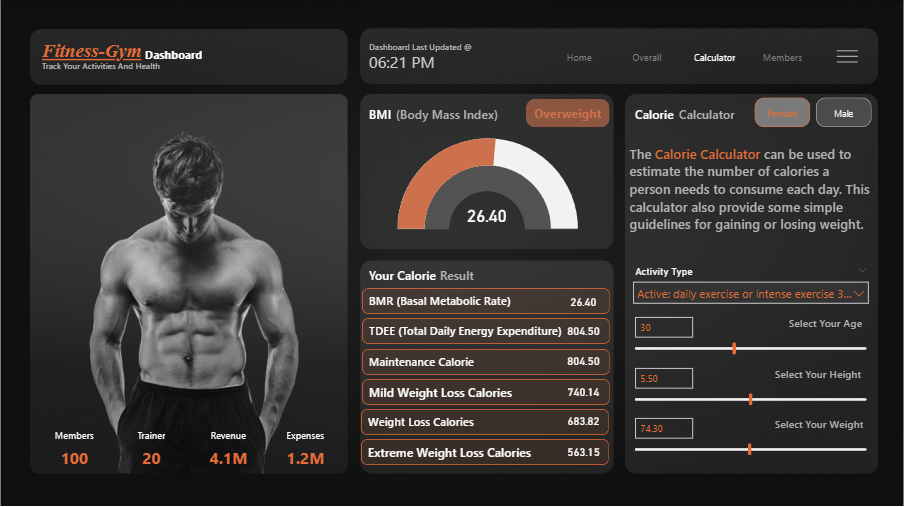

The page's visual inventory and layout, read from the dashboard file:
{"tool":"powerbi","page":{"name":"Calculator","canvas":[1280,720],"ordinal":2},"visuals":[{"type":"shape","box":[513.1,408.2,351.5,36.9],"z":0},{"type":"shape","box":[512.4,450.7,351.5,36.9],"z":1000},{"type":"shape","box":[513.7,494.8,351.5,36.9],"z":2000},{"type":"shape","box":[513,537.3,351.5,36.9],"z":3000},{"type":"shape","box":[512.3,579.9,351.5,36.9],"z":4000},{"type":"shape","box":[511.7,622.4,351.5,36.9],"z":5000},{"type":"slicer","fields":{"Values":["Parameter.Parameter"]},"box":[887.1,440,354.3,71.4],"z":6000},{"type":"slicer","fields":{"Values":["Height_Slider.Height_Slider"]},"box":[887.1,511.4,354.3,71.4],"z":7000},{"type":"slicer","fields":{"Values":["Weight_Slider.Weight_Slider"]},"box":[887.1,582.9,354.3,71.4],"z":8000},{"type":"slicer","fields":{"Values":["Slider_Activity.Category"]},"box":[887.1,371.4,354.3,68.6],"z":9000},{"type":"advancedSlicerVisual","fields":{"Values":["Slider_Gender.category"]},"box":[1064.3,132.9,177.1,52.9],"z":10000},{"type":"shape","box":[897.1,141.4,62.9,40],"z":11000},{"type":"shape","box":[960,141.4,91.4,40],"z":12000},{"type":"textbox","box":[887.1,200,354.3,160],"z":13000},{"type":"gauge","fields":{"Y":["_Measures.BMI"]},"box":[558.6,172.9,265.7,174.3],"z":14000},{"type":"shape","box":[1115.7,440,115.7,35.7],"z":15000},{"type":"shape","box":[1095.7,511.4,135.7,35.7],"z":16000},{"type":"shape","box":[1095.7,582.9,135.7,35.7],"z":17000},{"type":"card","fields":{"Values":["_Measures.BMI"]},"box":[632.9,265.7,112.9,80],"z":18000},{"type":"shape","box":[520,141.4,38.6,40],"z":19000},{"type":"shape","box":[558.6,141.4,154.3,40],"z":20000},{"type":"shape","box":[745.7,140,118.6,40],"z":21000},{"type":"shape","box":[520.2,406.8,226.8,39.7],"z":22000},{"type":"card","fields":{"Values":["_Measures.BMI"]},"box":[789.4,409.6,75.1,39.7],"z":23000},{"type":"shape","box":[520.2,369.9,116.2,39.7],"z":24000},{"type":"shape","box":[620.8,369.9,90.7,39.7],"z":25000},{"type":"shape","box":[520.2,449.3,303.3,39.7],"z":26000},{"type":"card","fields":{"Values":["_Measures.TDEE"]},"box":[789.4,450.7,75.1,39.7],"z":27000},{"type":"shape","box":[520.2,493.2,168.7,39.7],"z":28000},{"type":"card","fields":{"Values":["_Measures.Maintain Calories"]},"box":[789.4,493.2,75.1,39.7],"z":29000},{"type":"shape","box":[520.2,535.7,209.8,39.7],"z":30000},{"type":"card","fields":{"Values":["_Measures.Mild Weight Loss Calories"]},"box":[789.4,537.2,75.1,39.7],"z":31000},{"type":"shape","box":[518.7,578.3,211.2,39.7],"z":32000},{"type":"card","fields":{"Values":["_Measures.Weight Loss Calories"]},"box":[789.4,578.3,75.1,39.7],"z":33000},{"type":"shape","box":[518.7,620.8,246.6,39.7],"z":34000},{"type":"card","fields":{"Values":["_Measures.Extreme Weight Loss Calories"]},"box":[789.4,622.2,75.1,39.7],"z":35000},{"type":"shape","box":[56.3,52.1,149,40.6],"z":36000},{"type":"shape","box":[202.1,57.3,117.7,40.6],"z":37000},{"type":"shape","box":[56.3,71.9,264.6,40.6],"z":38000},{"type":"image","box":[1163.6,56.7,76.5,48.2],"z":39000},{"type":"shape","box":[520,68.1,117.1,40],"z":40000},{"type":"shape","box":[520,45.3,265.7,41.4],"z":41000},{"type":"pageNavigator","box":[778.1,62.4,374.2,36.9],"z":42000},{"type":"cardVisual","fields":{"Data":["_Measures.Users_Count"]},"box":[50.4,591.3,109.2,80.6],"z":43000},{"type":"cardVisual","fields":{"Data":["Count(Users.Trainer Name)"]},"box":[159.6,591.3,109.2,80.6],"z":44000},{"type":"cardVisual","fields":{"Data":["_Measures.Revenue"]},"box":[268.8,591.3,109.2,80.6],"z":45000},{"type":"cardVisual","fields":{"Data":["_Measures.Expenses"]},"box":[378,591.3,109.2,80.6],"z":46000}]}

Visuals, with their boxes in screenshot pixels (x1, y1, x2, y2), scaled from the page's 1280x720 canvas onto the 904x508 screenshot:
shape: (362, 288, 611, 314)
shape: (362, 318, 610, 344)
shape: (363, 349, 611, 375)
shape: (362, 379, 611, 405)
shape: (362, 409, 610, 435)
shape: (361, 439, 610, 465)
slicer - Parameter.Parameter: (627, 310, 877, 361)
slicer - Height_Slider.Height_Slider: (627, 361, 877, 411)
slicer - Weight_Slider.Weight_Slider: (627, 411, 877, 462)
slicer - Slider_Activity.Category: (627, 262, 877, 310)
advancedSlicerVisual - Slider_Gender.category: (752, 94, 877, 131)
shape: (634, 100, 678, 128)
shape: (678, 100, 743, 128)
textbox: (627, 141, 877, 254)
gauge - _Measures.BMI: (395, 122, 582, 245)
shape: (788, 310, 870, 336)
shape: (774, 361, 870, 386)
shape: (774, 411, 870, 436)
card - _Measures.BMI: (447, 187, 527, 244)
shape: (367, 100, 395, 128)
shape: (395, 100, 503, 128)
shape: (527, 99, 610, 127)
shape: (367, 287, 528, 315)
card - _Measures.BMI: (558, 289, 611, 317)
shape: (367, 261, 449, 289)
shape: (438, 261, 502, 289)
shape: (367, 317, 582, 345)
card - _Measures.TDEE: (558, 318, 611, 346)
shape: (367, 348, 487, 376)
card - _Measures.Maintain Calories: (558, 348, 611, 376)
shape: (367, 378, 516, 406)
card - _Measures.Mild Weight Loss Calories: (558, 379, 611, 407)
shape: (366, 408, 515, 436)
card - _Measures.Weight Loss Calories: (558, 408, 611, 436)
shape: (366, 438, 540, 466)
card - _Measures.Extreme Weight Loss Calories: (558, 439, 611, 467)
shape: (40, 37, 145, 65)
shape: (143, 40, 226, 69)
shape: (40, 51, 227, 79)
image: (822, 40, 876, 74)
shape: (367, 48, 450, 76)
shape: (367, 32, 555, 61)
pageNavigator: (550, 44, 814, 70)
cardVisual - _Measures.Users_Count: (36, 417, 113, 474)
cardVisual - Count(Users.Trainer Name): (113, 417, 190, 474)
cardVisual - _Measures.Revenue: (190, 417, 267, 474)
cardVisual - _Measures.Expenses: (267, 417, 344, 474)
